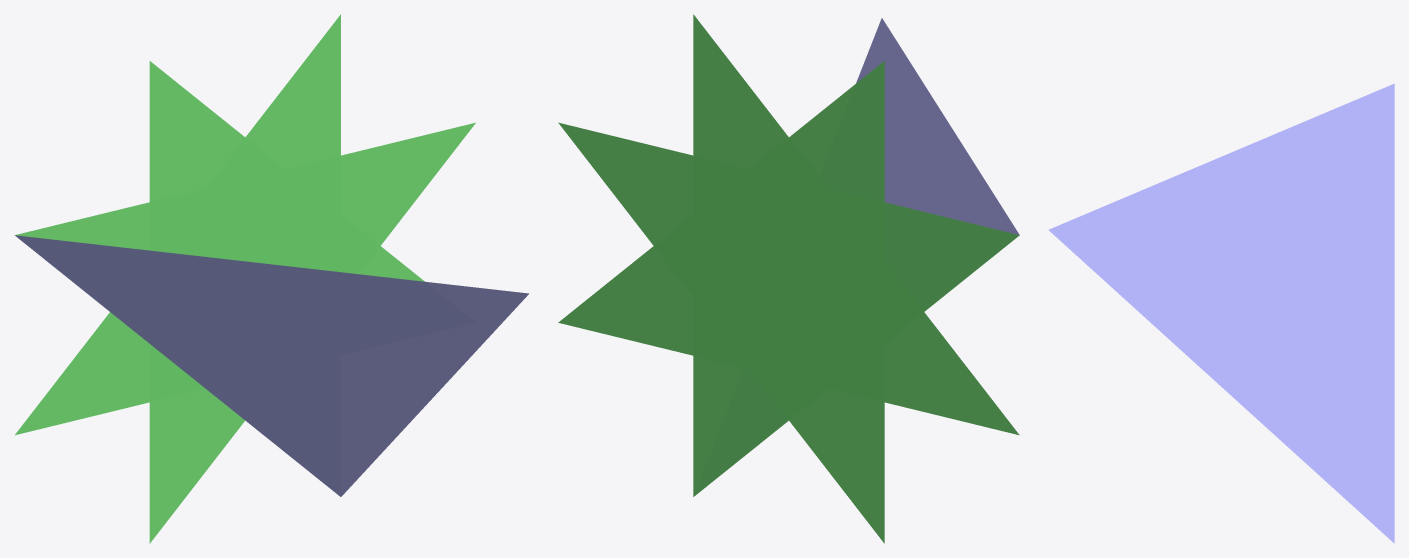
The model's file is StellatedTruncatedHexahedronF.obj.
3 renders of one model, left to right at view 1: azimuth 30°, elevation 25°; view 2: azimuth 150°, elevation 25°; view 3: azimuth 270°, elevation 25°, orthographic. The views are drawn at different scales.
Size of the model in its own units: 1 by 1 by 0.7071.
